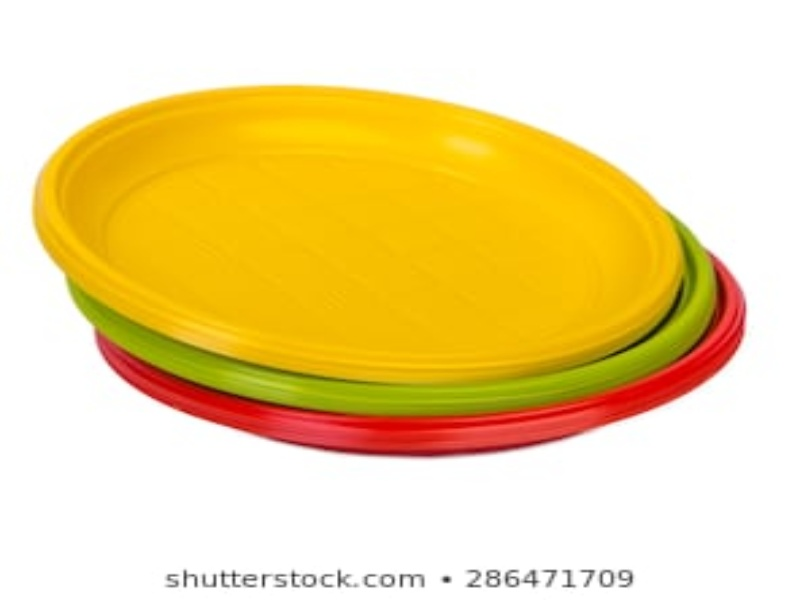plastic-plate: (31, 81, 690, 383), (94, 246, 769, 455), (48, 221, 734, 416)
